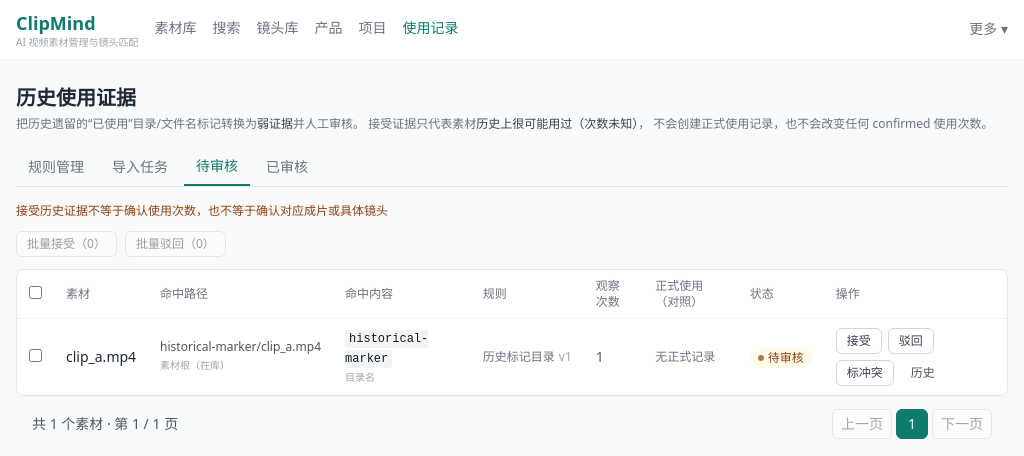
Test: UsageEvidenceView 规则管理 › 规则行展示受控匹配条件；无正则输入
Click the tab with test id "tab-rules".
click(56, 167)  # box [16,148,96,186]
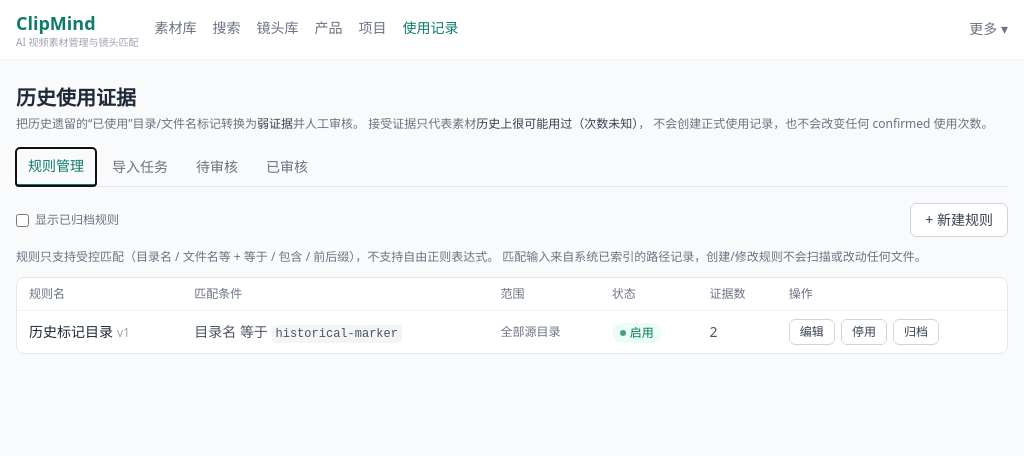
Expected: the row with test id "rule-row-1" shows "目录名", [194,322,236,341]
Expected: the row with test id "rule-row-1" shows "等于", [240,322,268,341]
Expected: the row with test id "rule-row-1" shows "historical-marker", [276,327,398,341]
